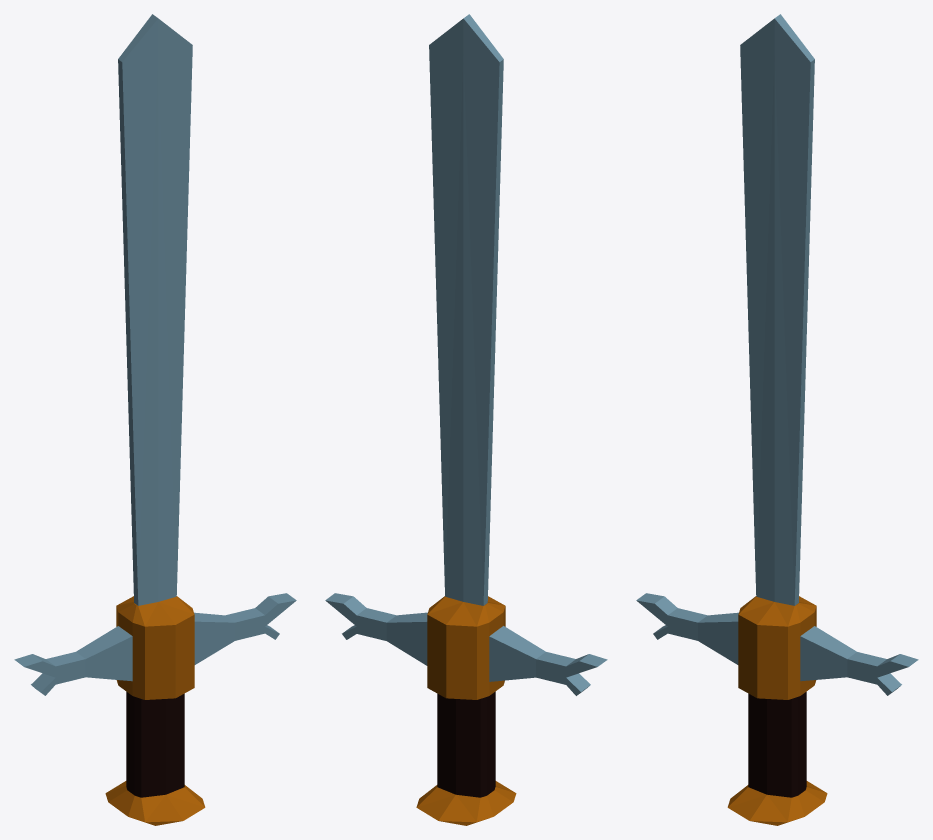
The model's file is sword.obj.
3 views of the same model, side by side, from view 1: azimuth 30°, elevation 25°; view 2: azimuth 150°, elevation 25°; view 3: azimuth 330°, elevation 25° (orthographic).
Visible parts, largest first — view 1: Cylinder; view 2: Cylinder; view 3: Cylinder.
Boxes of the visible parts, <box> form: Cylinder: <box>14,14,296,825</box>; Cylinder: <box>325,14,607,825</box>; Cylinder: <box>636,14,918,825</box>.
Bounding box in the file's own units: 7.78 × 22.06 × 2.77.
